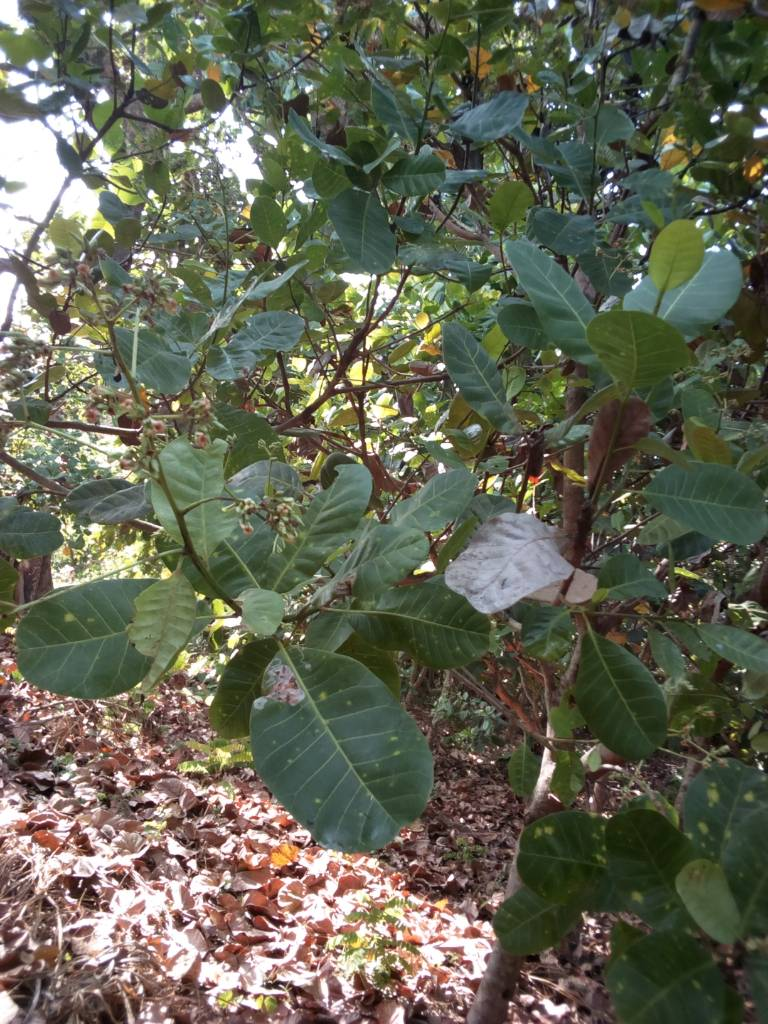Alternariose: (252, 642, 424, 855), (515, 808, 646, 914), (683, 753, 763, 903)
